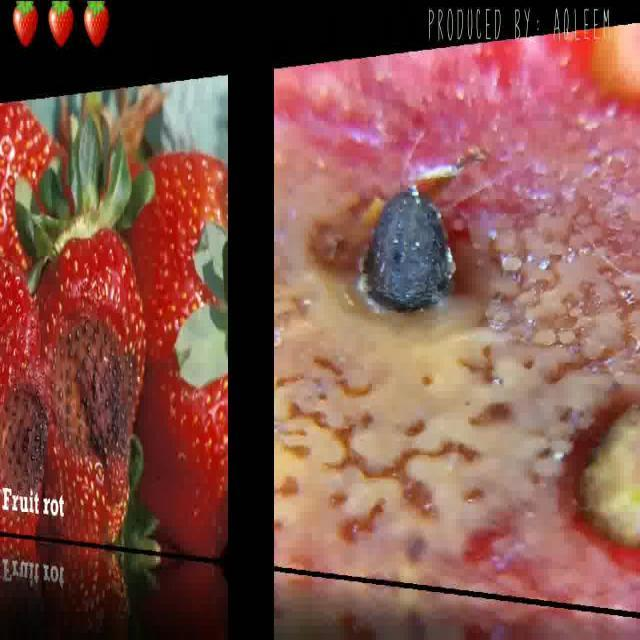Mancha negra Antracnosis: (289, 83, 640, 598), (0, 218, 146, 534)
